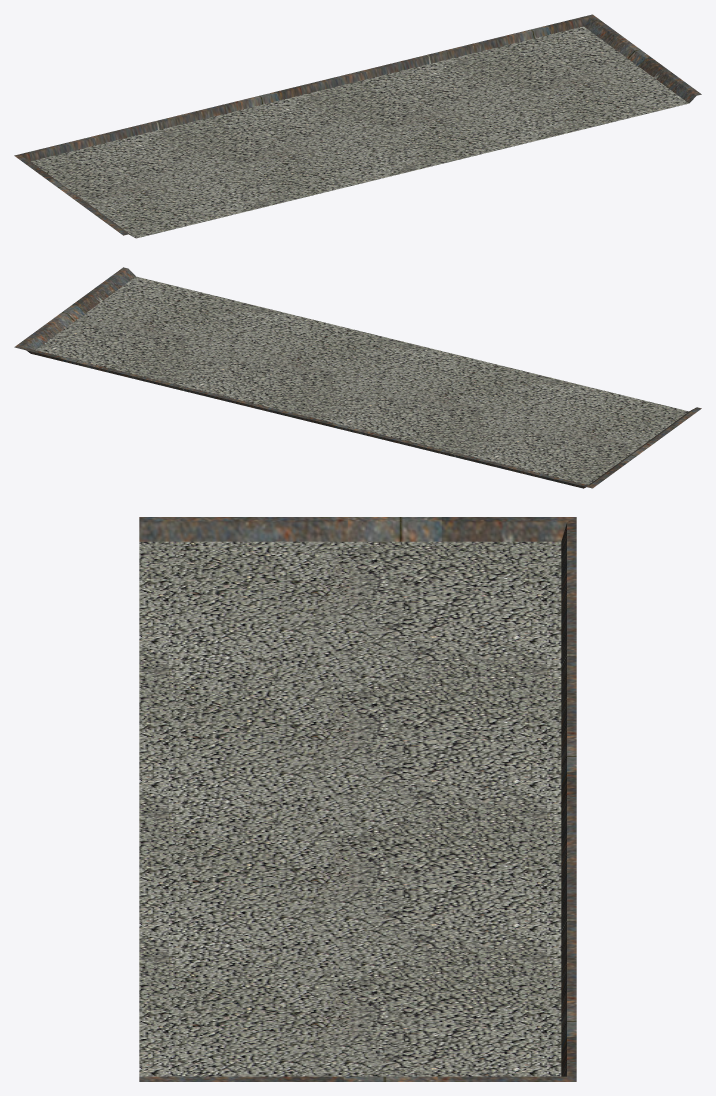
The model's file is Building_10_Roof.fbx.
3 views of the same model, one above another, from view 1: azimuth 30°, elevation 25°; view 2: azimuth 150°, elevation 25°; view 3: azimuth 270°, elevation 25° (orthographic). The views are drawn at different scales.
Visible parts, largest first — view 1: Building_10_Roof; view 2: Building_10_Roof; view 3: Building_10_Roof.
Part boxes in pixels (bbox=[...]): Building_10_Roof: bbox=[14, 14, 701, 238]; Building_10_Roof: bbox=[14, 267, 701, 488]; Building_10_Roof: bbox=[139, 517, 576, 1081].
Bounding box in the file's own units: 897 × 8.93 × 294.
